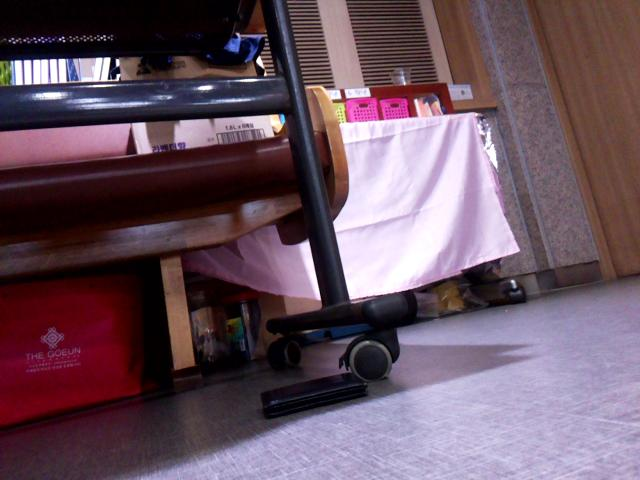wallet: (250, 369, 382, 417)
